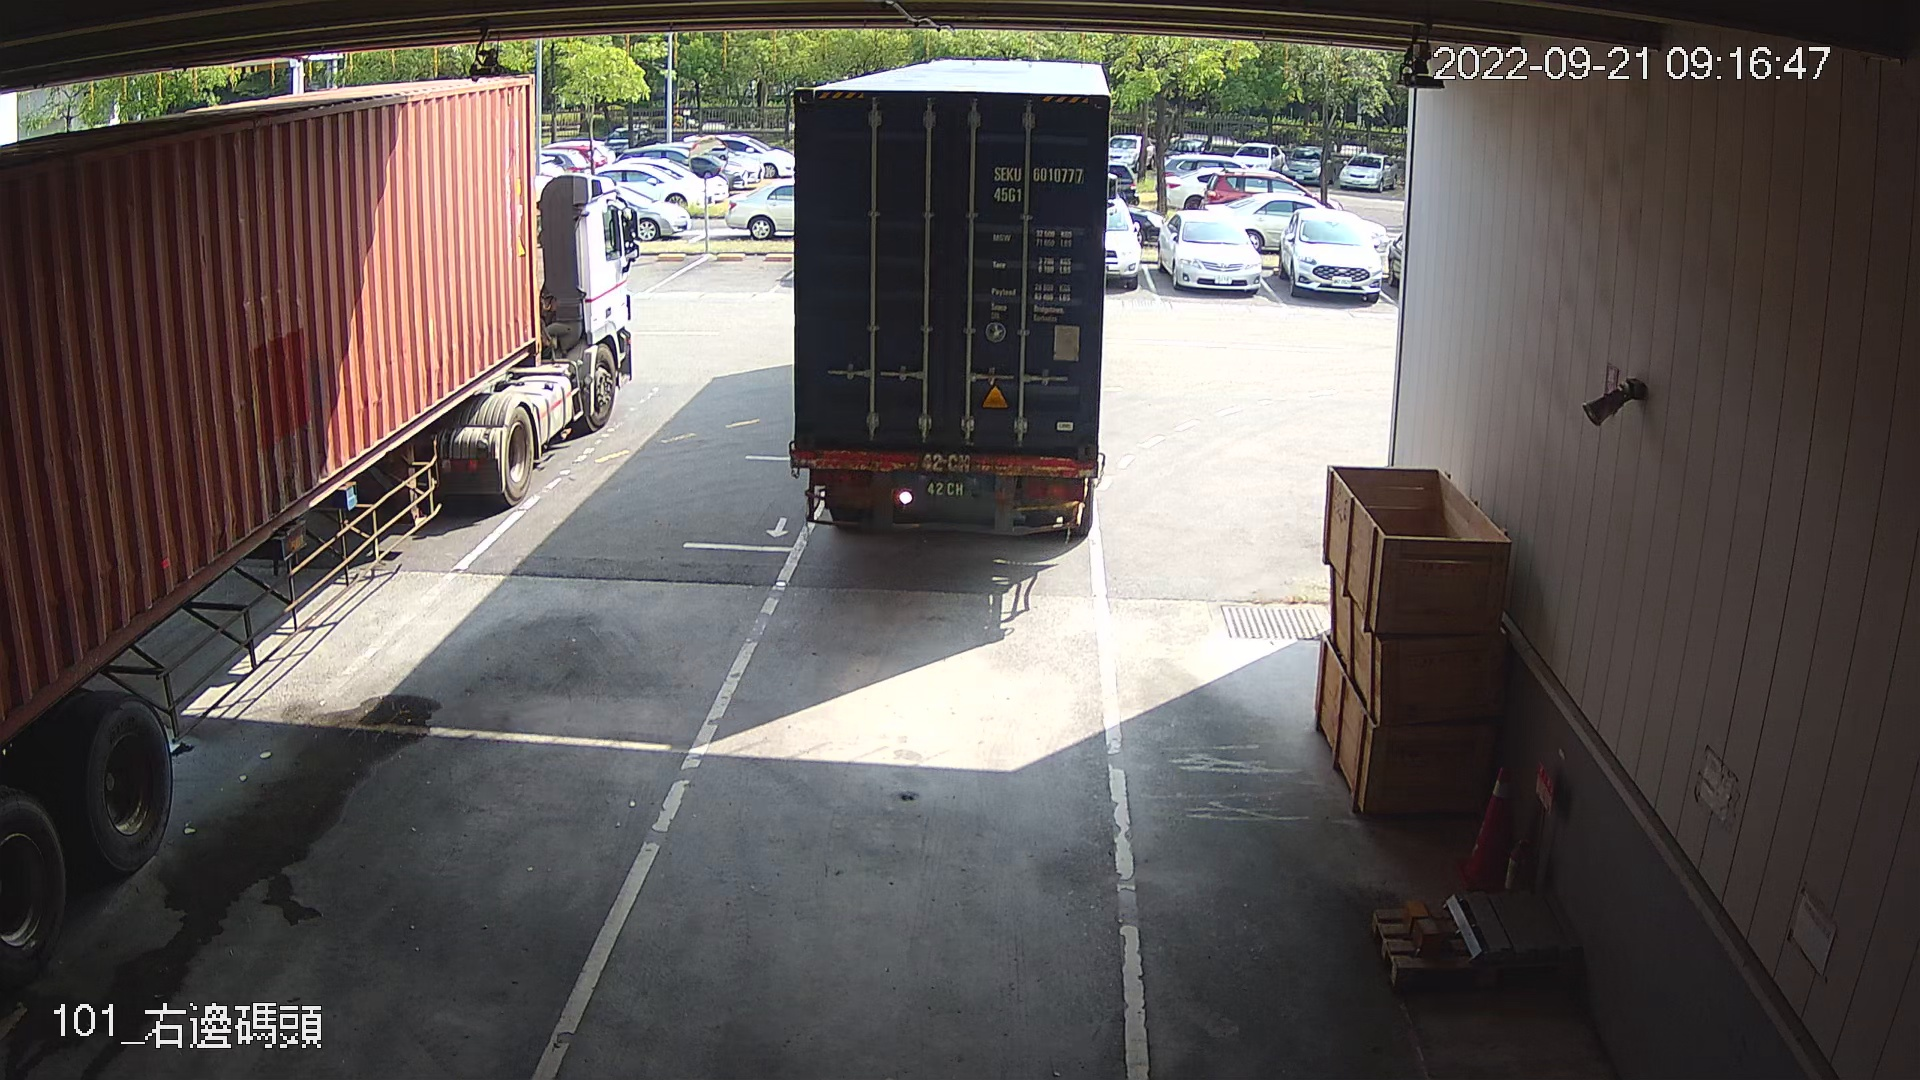container: (985, 160, 1089, 210)
